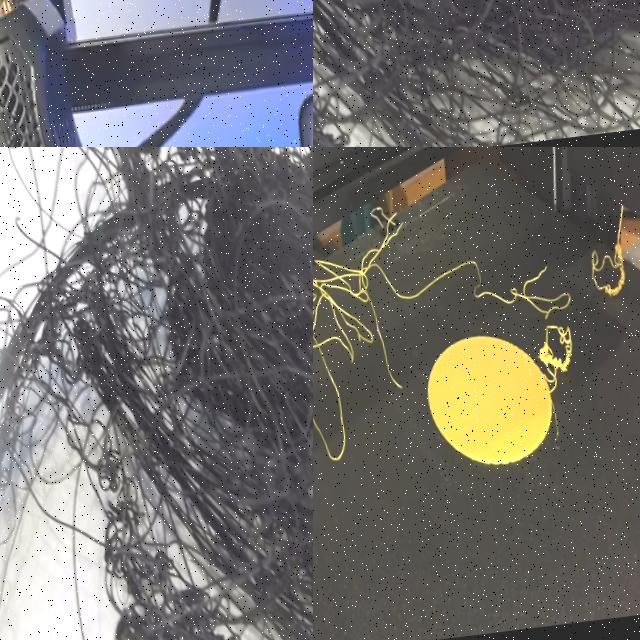spaghetti: (0, 147, 313, 640), (313, 209, 441, 426)
